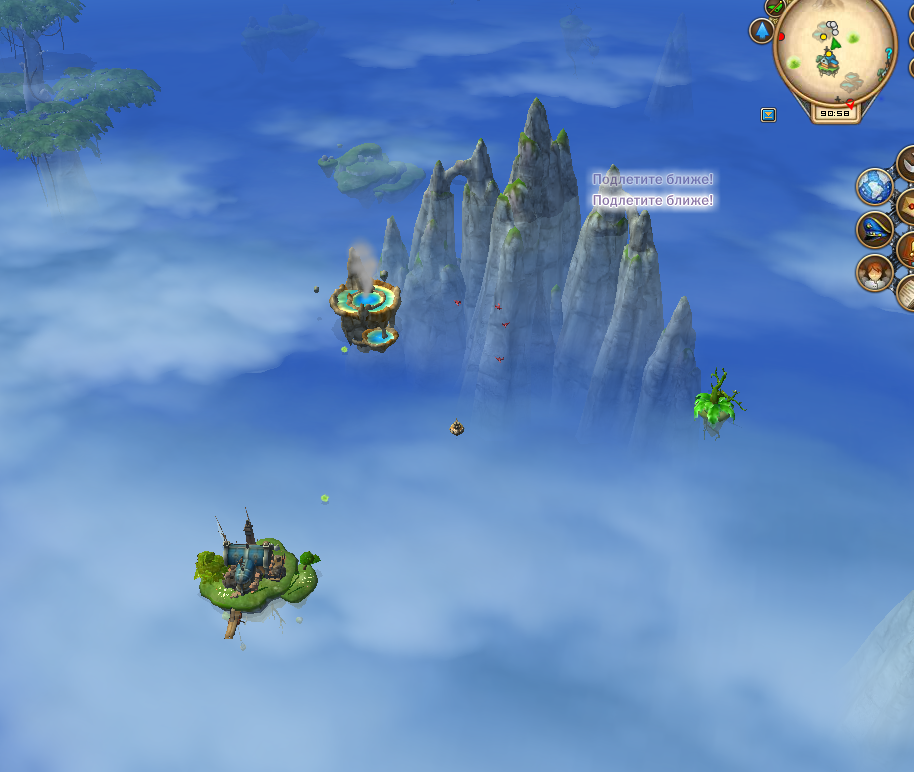dandelion-empty: (690, 362, 747, 441)
fluff: (312, 489, 333, 507), (335, 339, 351, 357)
